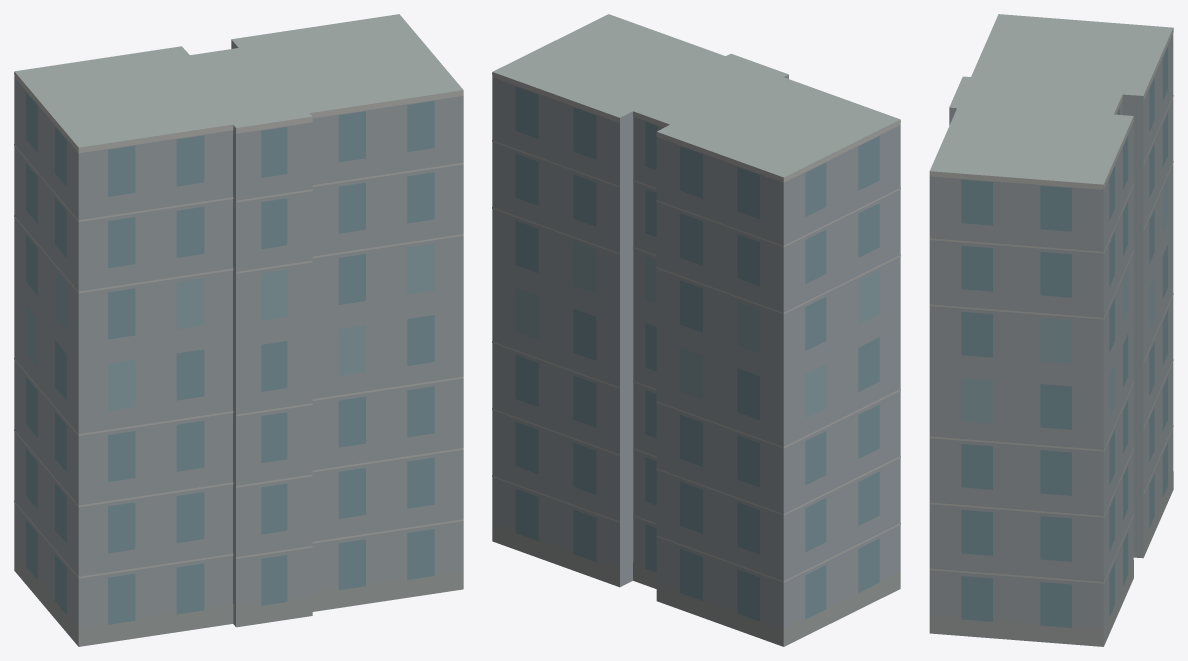
Rendered from survey-upis-32794904.glb.
3 views of the same model, side by side, from view 1: azimuth 30°, elevation 25°; view 2: azimuth 150°, elevation 25°; view 3: azimuth 270°, elevation 25° (orthographic). The views are drawn at different scales.
Parts seen in each view (by area): view 1: survey-upis-32794904.tmp; view 2: survey-upis-32794904.tmp; view 3: survey-upis-32794904.tmp.
Boxes of the visible parts, bbox=[...] form: survey-upis-32794904.tmp: bbox=[14, 14, 463, 646]; survey-upis-32794904.tmp: bbox=[492, 14, 900, 646]; survey-upis-32794904.tmp: bbox=[929, 14, 1173, 646].
Bounding box in the file's own units: 17.12 × 21.6 × 10.35.
